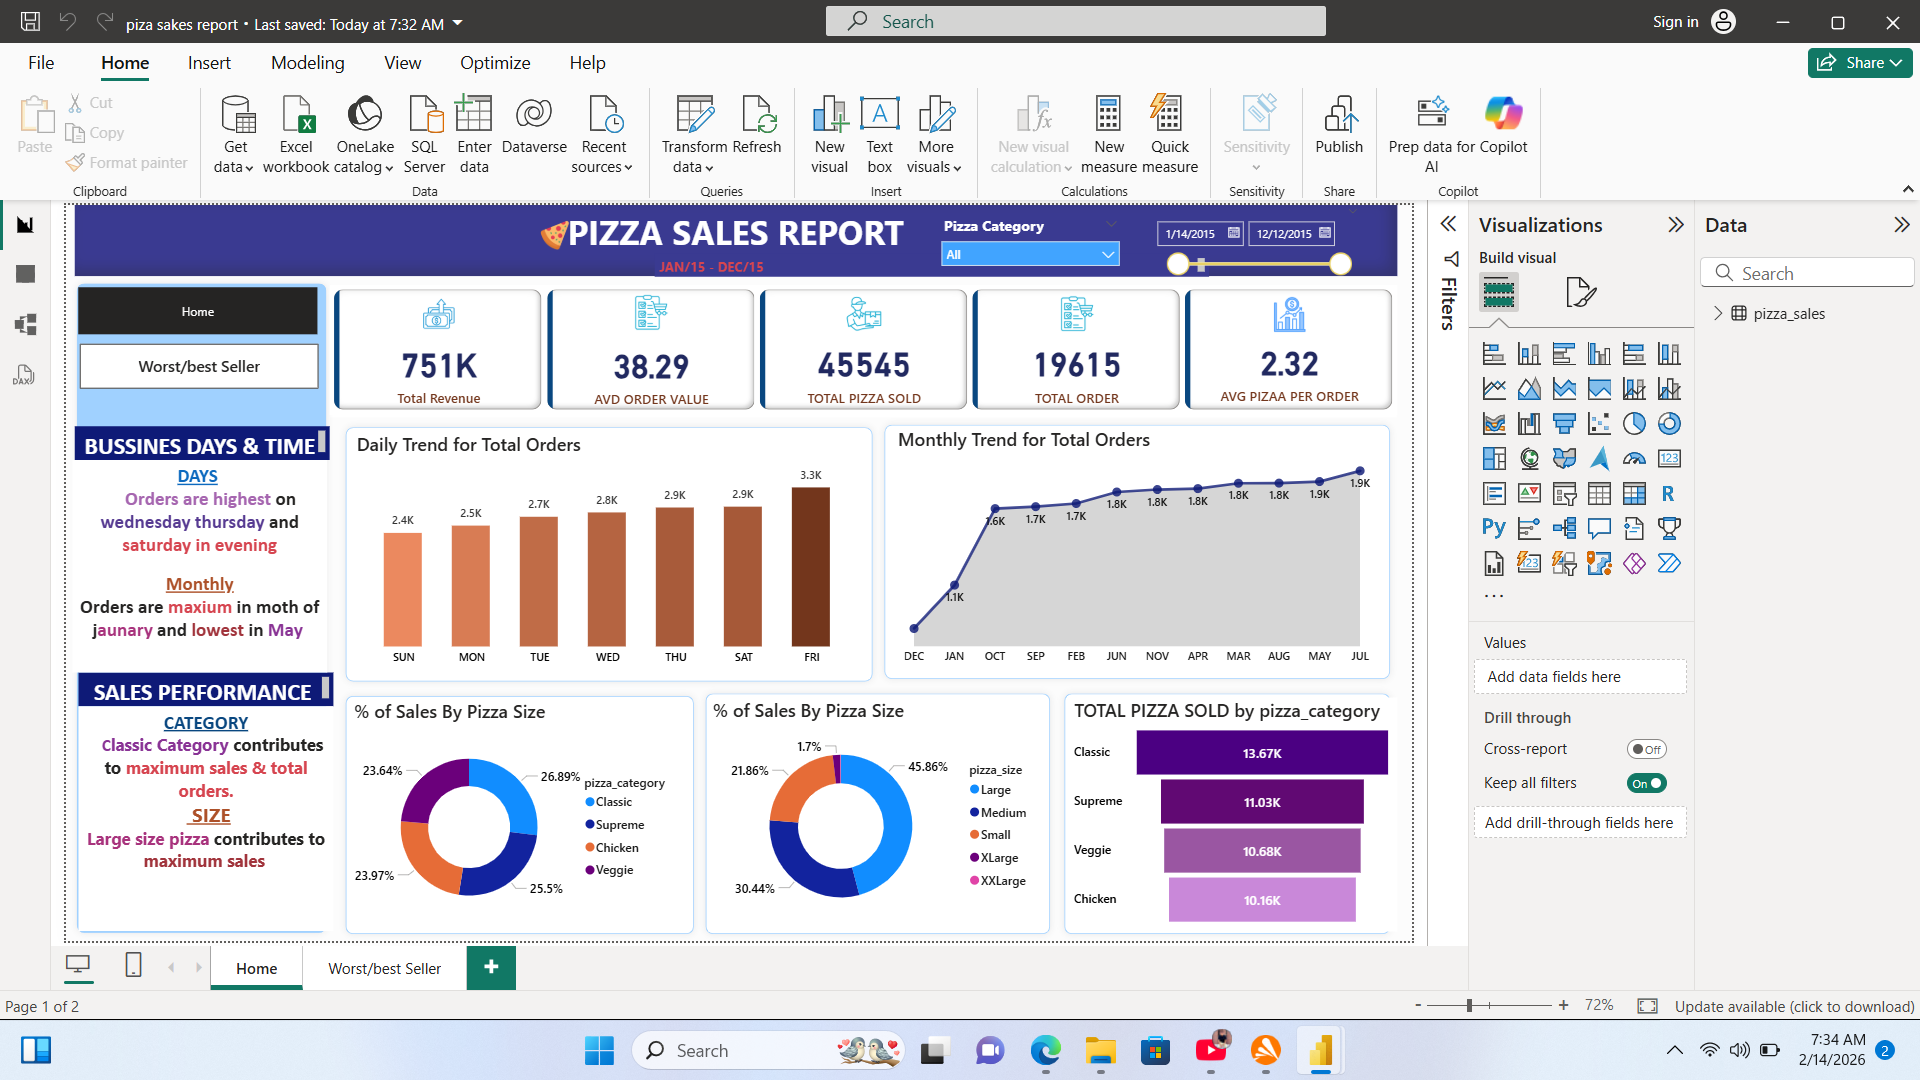

What the dashboard file says about the page in this screenshot:
{"tool":"powerbi","page":{"name":"Home","canvas":[1500,820],"ordinal":0},"visuals":[{"type":"cardVisual","fields":{"Data":["pizza_sales.Total Revenue","pizza_sales.AVD ORDER VALUE","pizza_sales.TOTAL PIZZA SOLD","pizza_sales.TOTAL ORDER","pizza_sales.AVG PIZAA PER ORDER"]},"box":[294.1,91.5,1189,144.9],"z":0},{"type":"textbox","box":[9.7,0,1473.4,79.4],"z":1000},{"type":"image","box":[492.5,12.7,102.7,42.2],"z":2000},{"type":"textbox","box":[655.7,54.9,617.7,25.3],"z":3000},{"type":"shape","box":[704.7,536.2,399.7,284.1],"z":4000},{"type":"shape","box":[903.8,236.8,579.4,299.4],"z":5000},{"type":"shape","box":[303.6,239.5,603,299.4],"z":6000},{"type":"shape","box":[303.6,539,403.9,281.3],"z":7000},{"type":"shape","box":[1104.4,536.2,378.8,284.1],"z":8000},{"type":"stackedAreaChart","title":"Monthly Trend for Total Orders","fields":{"Category":["pizza_sales.Month Name"],"Y":["pizza_sales.TOTAL ORDER"]},"box":[921.9,246.5,543.1,274.4],"z":9000},{"type":"donutChart","title":"% of Sales By Pizza Size","fields":{"Category":["pizza_sales.pizza_size"],"Y":["pizza_sales.Total Revenue"]},"box":[715.8,548.7,377.4,260.4],"z":10000},{"type":"funnel","fields":{"Y":["pizza_sales.TOTAL PIZZA SOLD"],"Category":["pizza_sales.pizza_category"]},"box":[1118.3,548.7,364.9,260.4],"z":11000},{"type":"shape","box":[4.2,79.4,293.9,739.5],"z":12000},{"type":"textbox","box":[13.9,520.9,284.1,37.6],"z":13000},{"type":"textbox","box":[7,284.1,284.1,236.8],"z":14000},{"type":"textbox","box":[10,246.8,284.1,37.6],"z":15000},{"type":"textbox","box":[13.9,558.5,284.1,250.7],"z":16000},{"type":"slicer","fields":{"Values":["pizza_sales.pizza_category"]},"box":[965.1,7,218.6,66.8],"z":17000},{"type":"slicer","fields":{"Values":["pizza_sales.order_date"]},"box":[1203.3,0,247.9,89.1],"z":18000},{"type":"columnChart","title":"      Daily Trend for Total Orders","fields":{"Y":["pizza_sales.TOTAL ORDER"],"Category":["pizza_sales.Day Name"]},"box":[318.3,251.7,570,270],"z":19000},{"type":"donutChart","title":"% of Sales By Pizza Size","fields":{"Category":["pizza_sales.pizza_category"],"Y":["pizza_sales.Total Revenue"]},"box":[316.7,550,378.3,260],"z":20000},{"type":"pageNavigator","box":[13.9,91.9,266,52.9],"z":21000},{"type":"pageNavigator","box":[15.3,154.6,266,50.1],"z":22000},{"type":"cardVisual","fields":{"Data":["pizza_sales.Total Revenue","pizza_sales.AVG TOTAL ORDER","pizza_sales.TOTAL PIZZA SOLD","pizza_sales.TOTAL ORDER","pizza_sales.AVG PIZAA PER ORDER"]},"box":[293.9,89.1,1189.3,144.8],"z":23000}]}

Visuals, with their boxes on the page's 1500x820 design canvas (x1, y1, x2, y2). These are canvas units, not pixel positions in the 1920x1080 screenshot, which may show the page scaled, cropped or inside an application window:
cardVisual - pizza_sales.Total Revenue x pizza_sales.AVD ORDER VALUE: left=294, top=92, right=1483, bottom=236
textbox: left=10, top=0, right=1483, bottom=79
image: left=492, top=13, right=595, bottom=55
textbox: left=656, top=55, right=1273, bottom=80
shape: left=705, top=536, right=1104, bottom=820
shape: left=904, top=237, right=1483, bottom=536
shape: left=304, top=240, right=907, bottom=539
shape: left=304, top=539, right=708, bottom=820
shape: left=1104, top=536, right=1483, bottom=820
"Monthly Trend for Total Orders" stackedAreaChart: left=922, top=246, right=1465, bottom=521
"% of Sales By Pizza Size" donutChart: left=716, top=549, right=1093, bottom=809
funnel - pizza_sales.TOTAL PIZZA SOLD x pizza_sales.pizza_category: left=1118, top=549, right=1483, bottom=809
shape: left=4, top=79, right=298, bottom=819
textbox: left=14, top=521, right=298, bottom=558
textbox: left=7, top=284, right=291, bottom=521
textbox: left=10, top=247, right=294, bottom=284
textbox: left=14, top=558, right=298, bottom=809
slicer - pizza_sales.pizza_category: left=965, top=7, right=1184, bottom=74
slicer - pizza_sales.order_date: left=1203, top=0, right=1451, bottom=89
"      Daily Trend for Total Orders" columnChart: left=318, top=252, right=888, bottom=522
"% of Sales By Pizza Size" donutChart: left=317, top=550, right=695, bottom=810
pageNavigator: left=14, top=92, right=280, bottom=145
pageNavigator: left=15, top=155, right=281, bottom=205
cardVisual - pizza_sales.Total Revenue x pizza_sales.AVG TOTAL ORDER: left=294, top=89, right=1483, bottom=234
